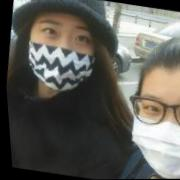OK: (117, 76, 180, 180)
WRONG: (20, 10, 105, 95)
